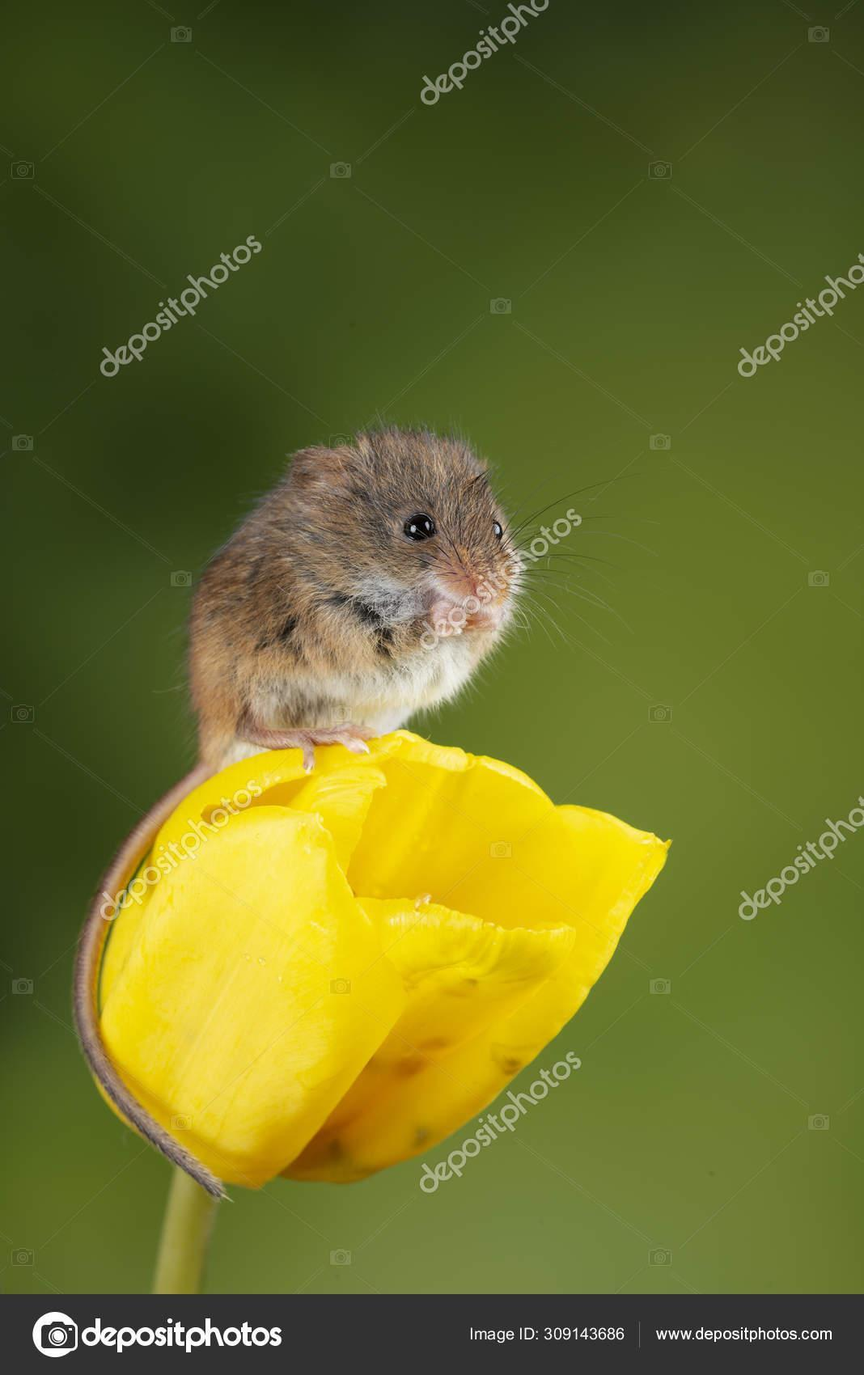rat: (191, 432, 528, 772)
